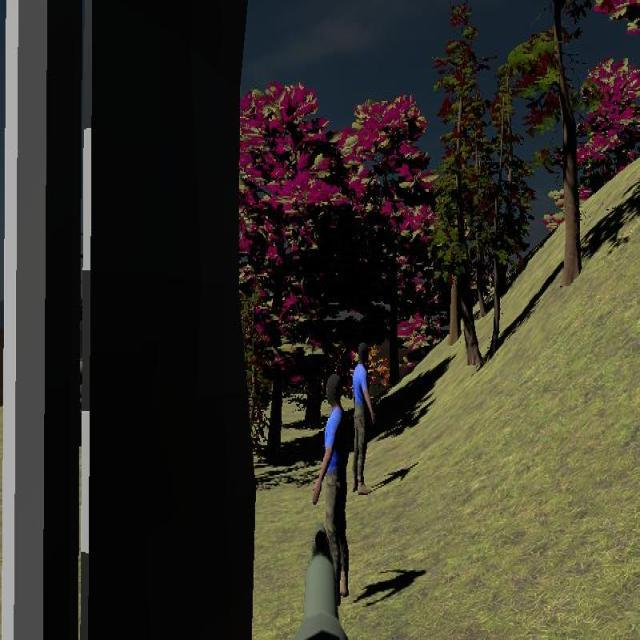Human: (312, 369, 351, 596), (352, 340, 375, 498)
